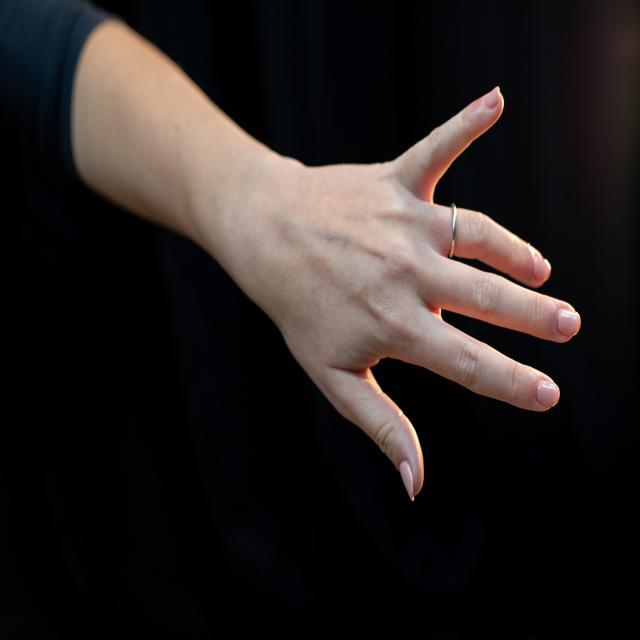bare_hand: (212, 87, 581, 502)
